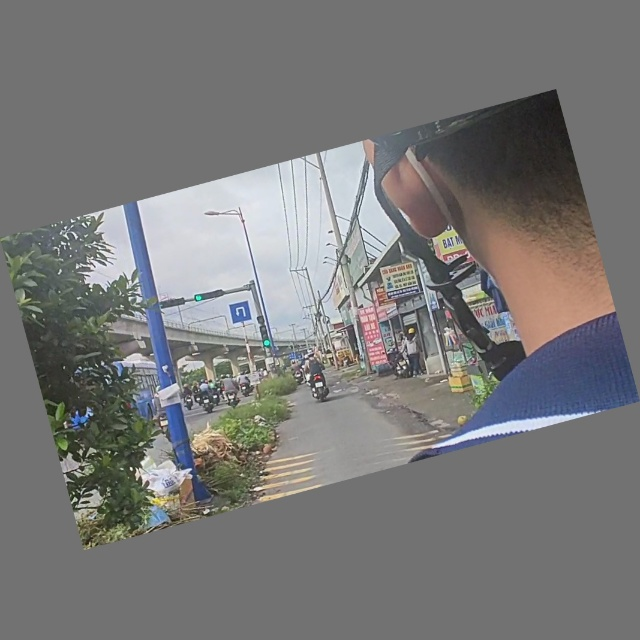I.409: (226, 299, 255, 328)
